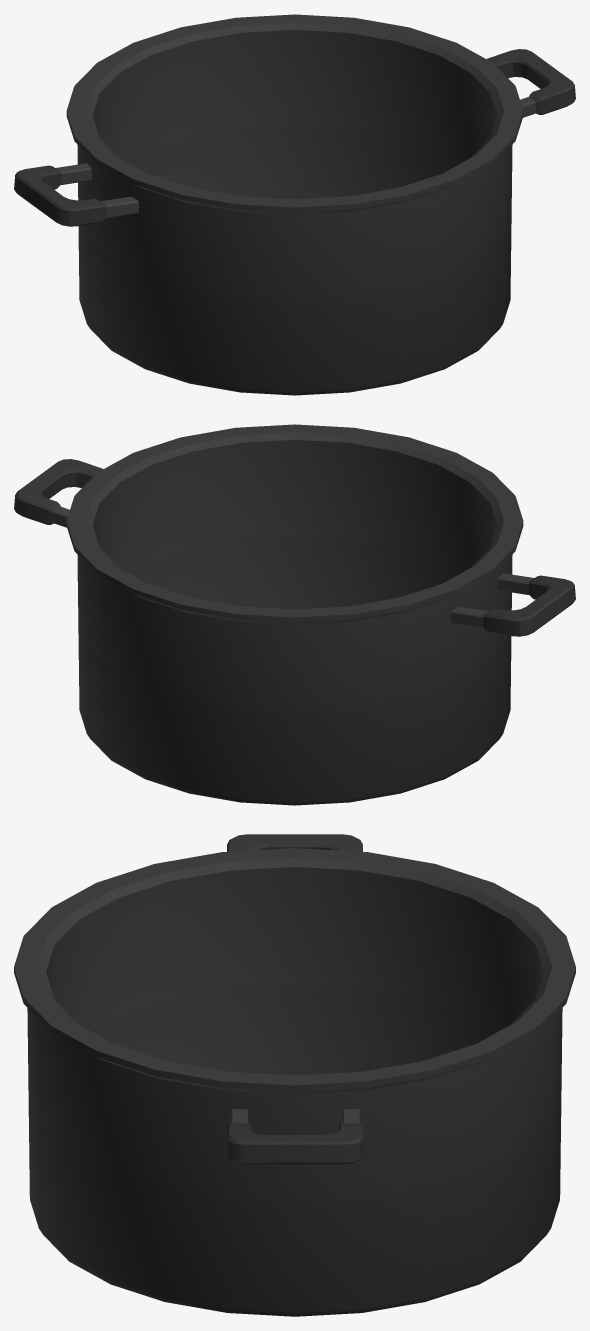
File: SmallPot.glb
The picture shows the model from 3 angles, top to bottom: view 1: azimuth 30°, elevation 25°; view 2: azimuth 150°, elevation 25°; view 3: azimuth 270°, elevation 25°; orthographic projection. The views are drawn at different scales.
Parts seen in each view (by area): view 1: SmallPot; view 2: SmallPot; view 3: SmallPot.
Part boxes in pixels (left/top/right/bottom): SmallPot: left=14, top=14, right=575, bottom=395; SmallPot: left=14, top=424, right=575, bottom=805; SmallPot: left=14, top=834, right=575, bottom=1316.
Size of the model in its own units: 0.4174 by 0.1521 by 0.3189.
Materials: 1 (1 with a texture image).
